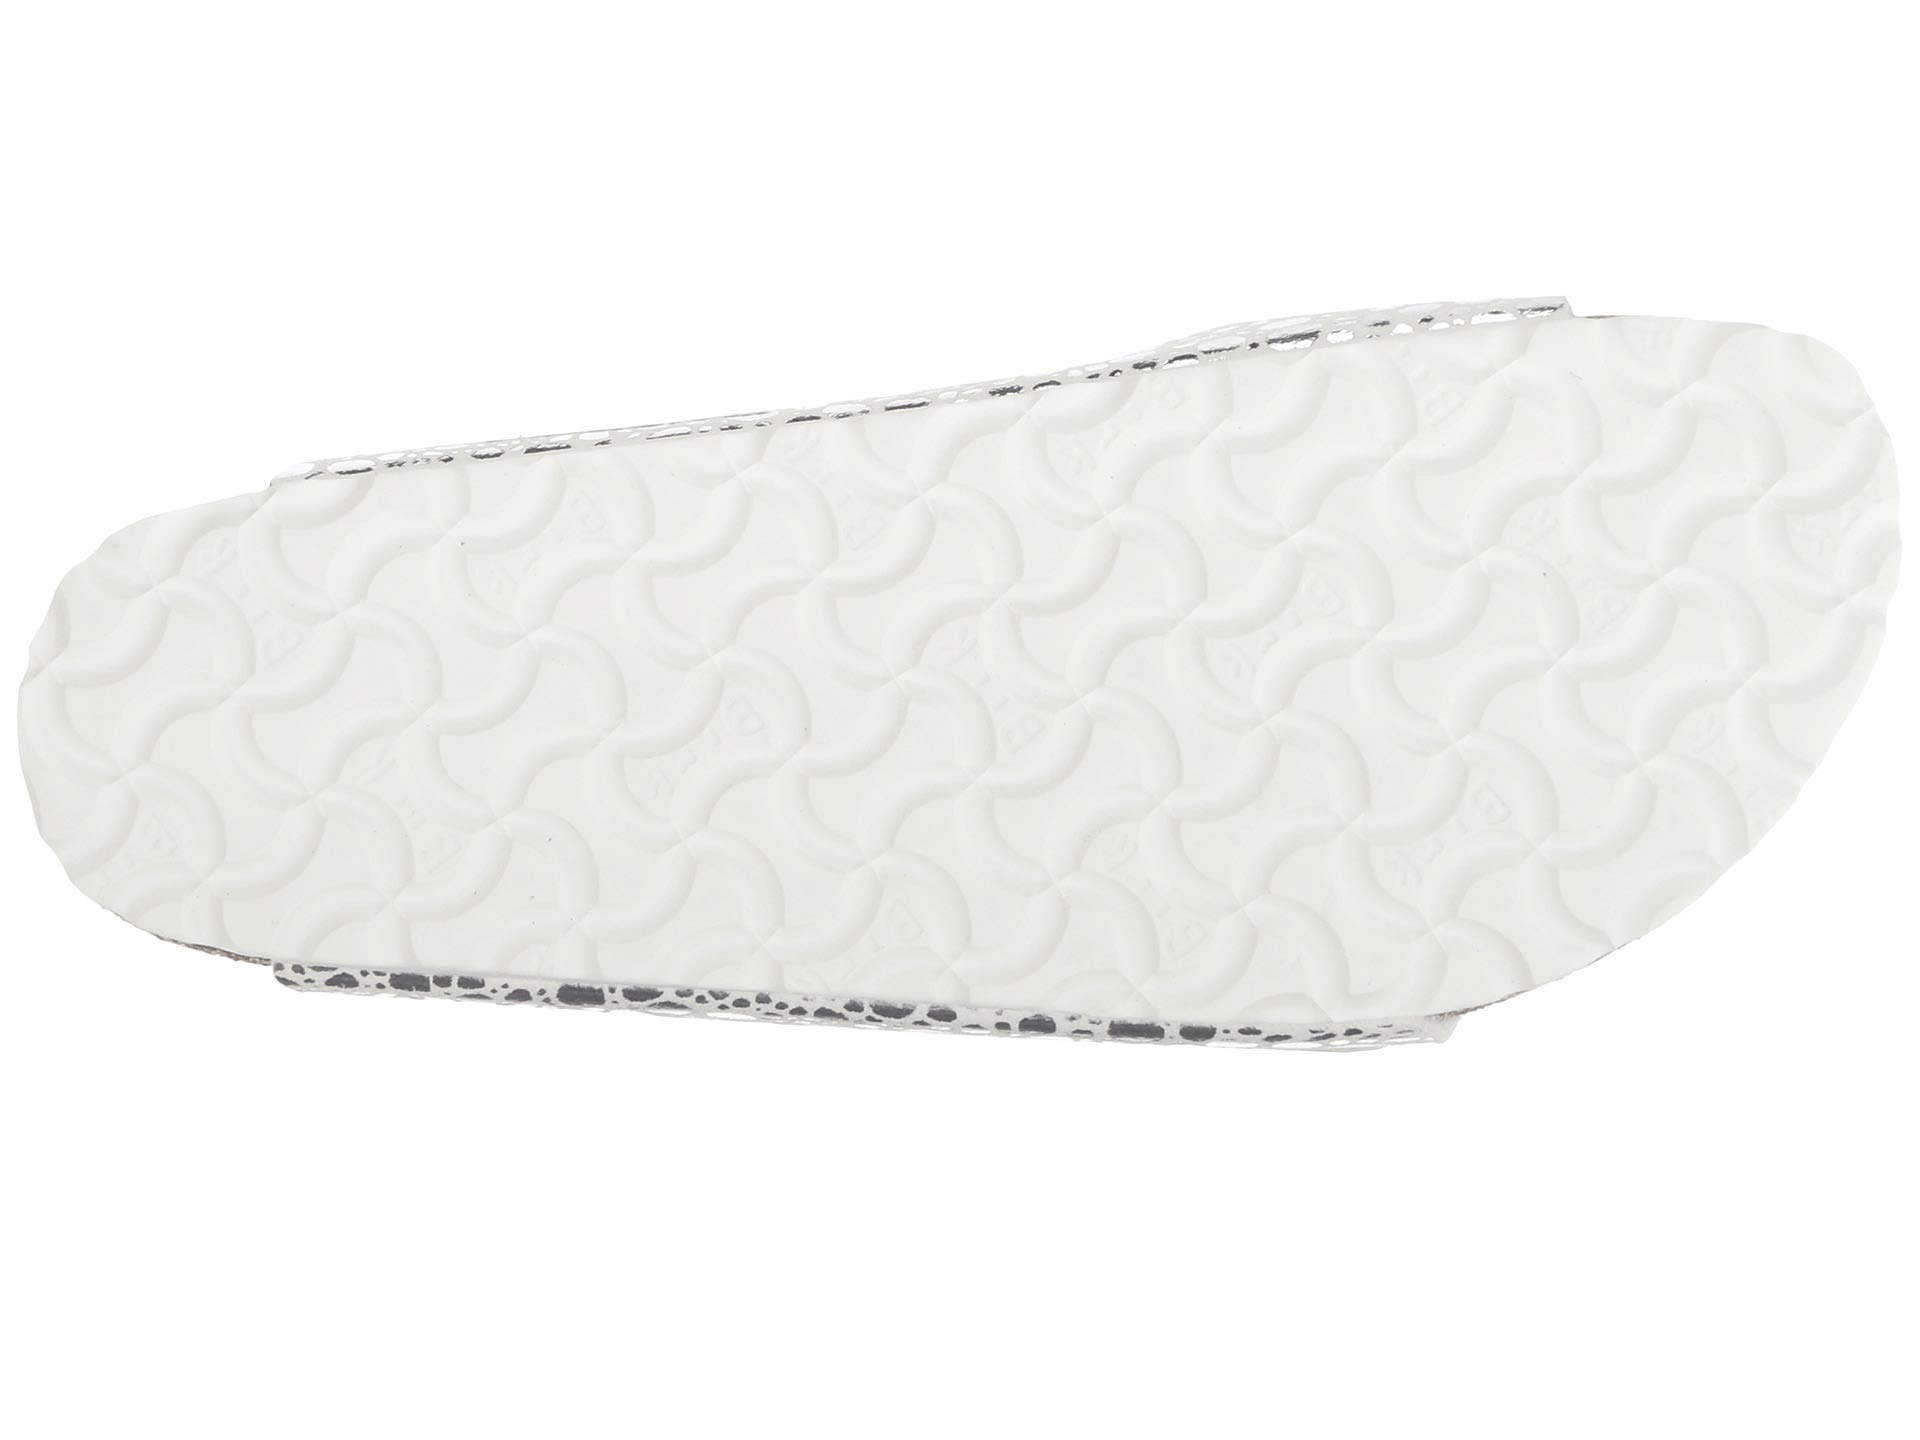bowtie: (1027, 405, 1473, 982), (547, 458, 989, 961), (104, 542, 508, 942), (1486, 342, 1869, 653)
text: (1027, 405, 1473, 982), (547, 458, 989, 961), (104, 542, 508, 942), (1486, 342, 1869, 653)
